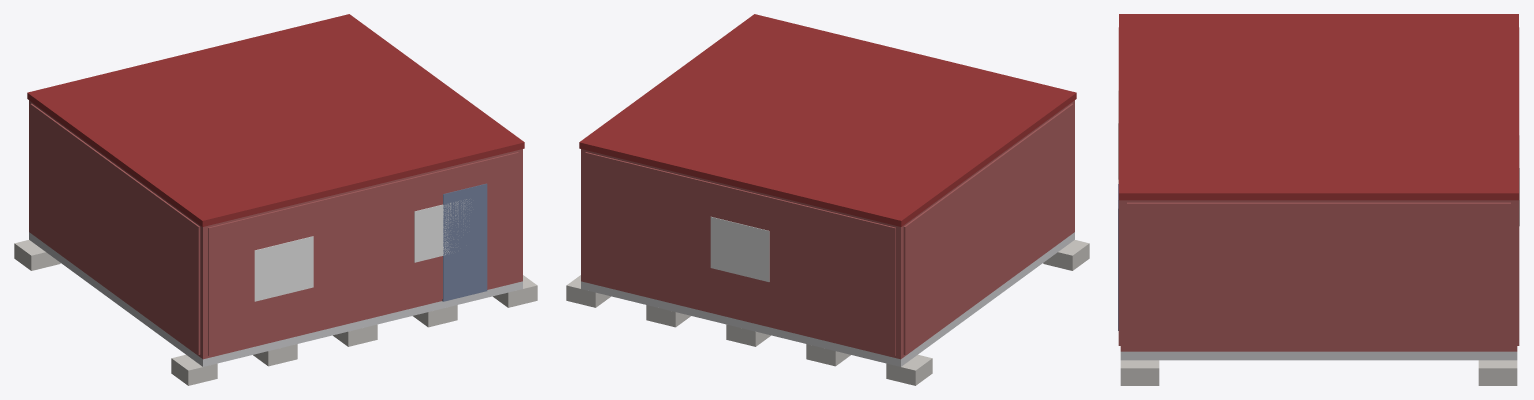
File: Studio-20-Base-MaroonRed-LOD1.glb
3 views of the same model, side by side, from view 1: azimuth 30°, elevation 25°; view 2: azimuth 150°, elevation 25°; view 3: azimuth 270°, elevation 25° (orthographic). The views are drawn at different scales.
Parts seen in each view (by area): view 1: RoofMain, ExteriorPanelsStandard, WindowsStandard, EntryDoor, FoundationBlocks, BaseFrame, ExteriorShell; view 2: ExteriorPanelsStandard, RoofMain, FoundationBlocks, BaseFrame, ExteriorShell, WindowsStandard; view 3: RoofMain, ExteriorPanelsStandard, ExteriorShell, BaseFrame, FoundationBlocks.
Part boxes in pixels (box(x1,y1,x2,y2)): RoofMain: box(27, 14, 524, 226); ExteriorPanelsStandard: box(30, 103, 518, 355); WindowsStandard: box(254, 199, 471, 301); EntryDoor: box(442, 183, 487, 301); FoundationBlocks: box(14, 240, 537, 385); BaseFrame: box(29, 232, 522, 366); ExteriorShell: box(29, 100, 522, 359); ExteriorPanelsStandard: box(585, 103, 1073, 355); RoofMain: box(579, 14, 1076, 226); FoundationBlocks: box(566, 240, 1089, 385); BaseFrame: box(581, 232, 1074, 366); ExteriorShell: box(581, 100, 1074, 359); WindowsStandard: box(710, 216, 769, 281); RoofMain: box(1119, 14, 1518, 200); ExteriorPanelsStandard: box(1118, 27, 1519, 349); ExteriorShell: box(1120, 200, 1517, 351); BaseFrame: box(1120, 351, 1517, 360); FoundationBlocks: box(1120, 360, 1517, 385).
Bounding box in the file's own units: 7.14 × 3.17 × 6.24.
